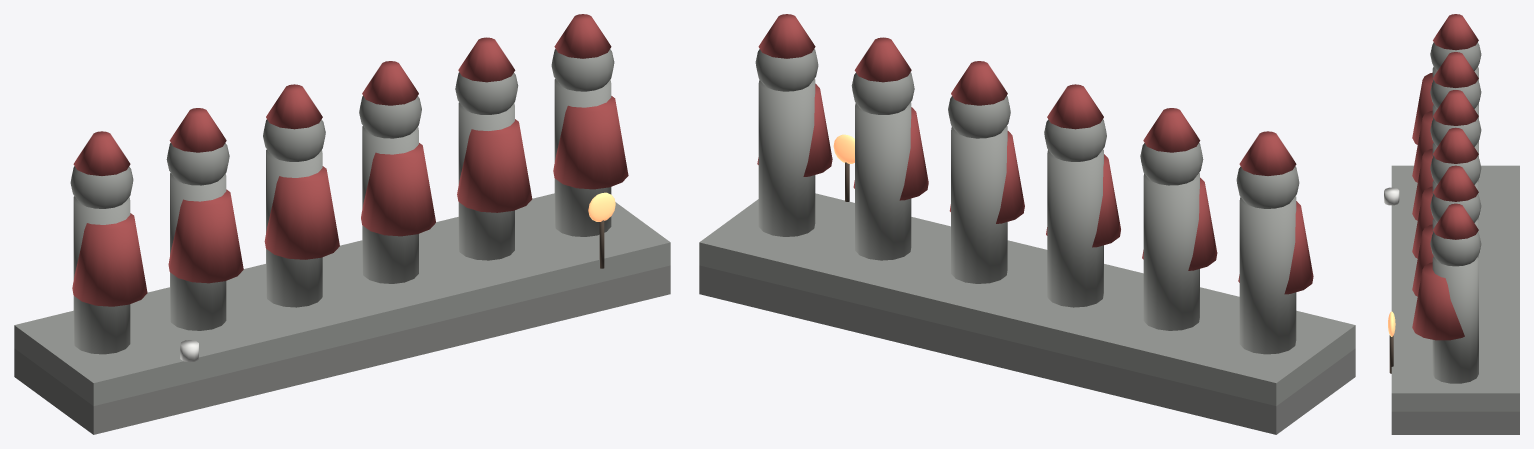
Rendered from prop_roku_jizo.glb.
The picture shows the model from 3 angles, left to right: view 1: azimuth 30°, elevation 25°; view 2: azimuth 150°, elevation 25°; view 3: azimuth 270°, elevation 25°; orthographic projection. The views are drawn at different scales.
Parts seen in each view (by area): view 1: roku_jizo; view 2: roku_jizo; view 3: roku_jizo.
Boxes of the visible parts, bbox=[...] form: roku_jizo: bbox=[14, 14, 670, 434]; roku_jizo: bbox=[699, 14, 1355, 434]; roku_jizo: bbox=[1384, 14, 1519, 434].
Size of the model in its own units: 4.2 by 1.8 by 1.06.
